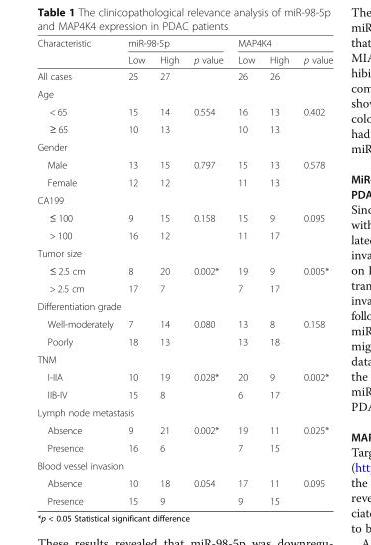table: (36, 37, 332, 506)
table column: (36, 37, 120, 506), (185, 37, 229, 506), (295, 37, 332, 506), (151, 37, 185, 506), (261, 37, 295, 506), (229, 37, 261, 506), (120, 37, 151, 506)
table column header: (36, 37, 332, 67)
table projected row header: (36, 84, 332, 102), (36, 137, 332, 155), (36, 190, 332, 208), (36, 403, 332, 421), (36, 456, 332, 474), (36, 244, 332, 261), (36, 297, 332, 314), (36, 350, 332, 367)
table row: (36, 84, 332, 102), (36, 119, 332, 137), (36, 137, 332, 155), (36, 155, 332, 173), (36, 190, 332, 208), (36, 208, 332, 226), (36, 226, 332, 244), (36, 261, 332, 279), (36, 279, 332, 297), (36, 314, 332, 332), (36, 332, 332, 350), (36, 367, 332, 385), (36, 385, 332, 403), (36, 403, 332, 421), (36, 438, 332, 456), (36, 456, 332, 474), (36, 50, 332, 67), (36, 67, 332, 84), (36, 102, 332, 119), (36, 173, 332, 190), (36, 244, 332, 261), (36, 297, 332, 314), (36, 350, 332, 367), (36, 421, 332, 438), (36, 474, 332, 491), (36, 491, 332, 506), (36, 37, 332, 50)
table spanning cell: (36, 37, 120, 67), (120, 37, 229, 50), (229, 37, 332, 50)
